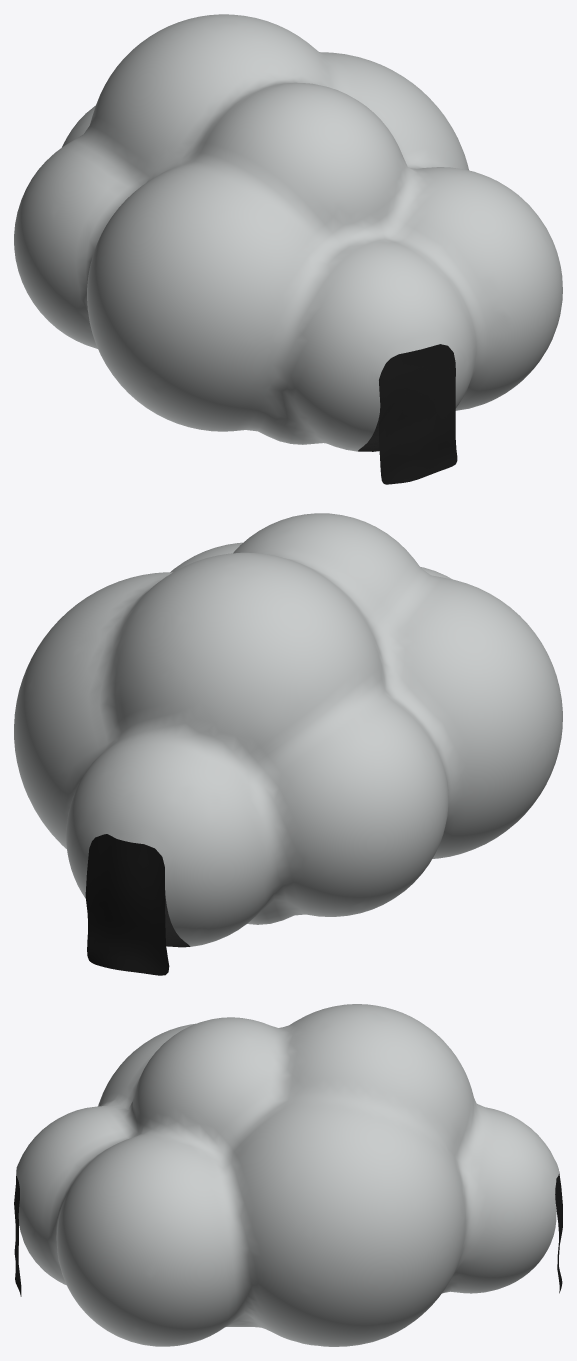
File: 1000clouds.glb
The picture shows the model from 3 angles, top to bottom: view 1: azimuth 30°, elevation 25°; view 2: azimuth 150°, elevation 25°; view 3: azimuth 270°, elevation 25°; orthographic projection. The views are drawn at different scales.
Parts seen in each view (by area): view 1: Aussen, Extrude; view 2: Aussen, Extrude; view 3: Aussen, Extrude.
Part boxes in pixels (box(x1,y1,x2,y2)): Aussen: box(14, 14, 562, 451); Extrude: box(379, 344, 457, 484); Aussen: box(14, 513, 562, 946); Extrude: box(85, 834, 169, 975); Aussen: box(16, 1004, 558, 1346); Extrude: box(14, 1171, 562, 1296).
Size of the model in its own units: 425 by 302 by 554.
3 materials, 3 textured.
